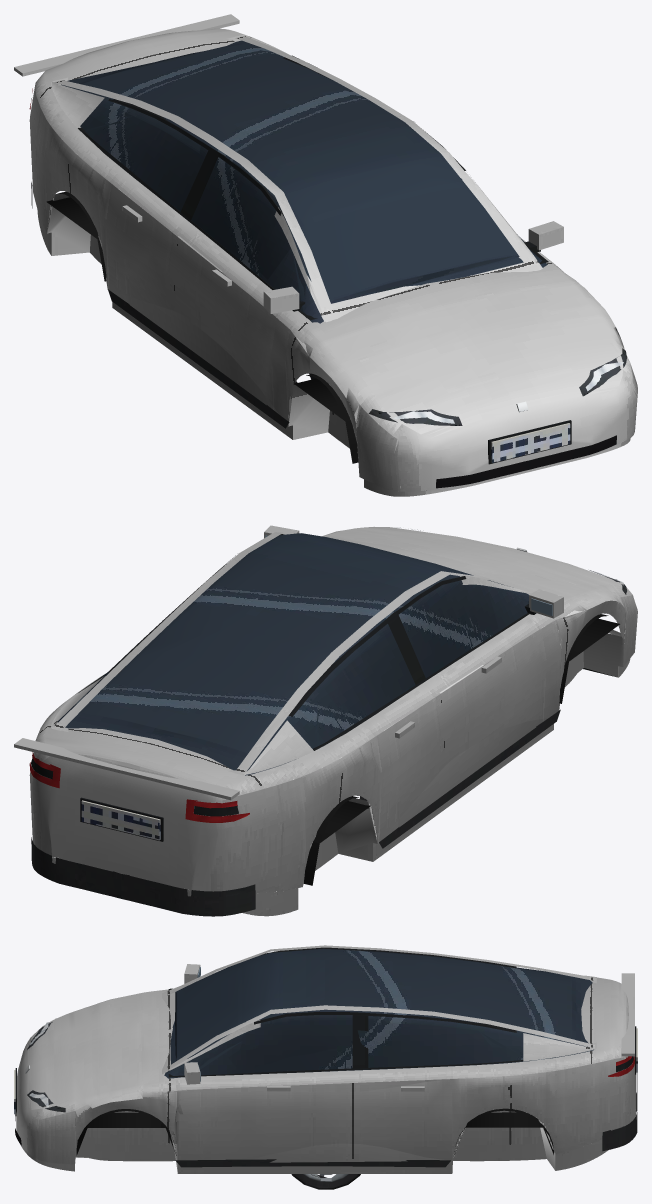
The model's file is modele24.glb.
3 renders of one model, top to bottom at view 1: azimuth 30°, elevation 25°; view 2: azimuth 150°, elevation 25°; view 3: azimuth 270°, elevation 25°, orthographic. The views are drawn at different scales.
Parts seen in each view (by area): view 1: Paint, Body, Paint_far, Body_far; view 2: Paint, Body, Paint_far, Body_far; view 3: Paint, Body, Body_far, Paint_far, Wheel, Wheel_far.
Part boxes in pixels (box(x1,y1,x2,y2)): Paint: box(14, 28, 637, 496); Body: box(29, 40, 626, 488); Paint_far: box(14, 14, 563, 496); Body_far: box(46, 42, 626, 463); Paint: box(29, 526, 637, 916); Body: box(29, 527, 626, 916); Paint_far: box(14, 525, 626, 894); Body_far: box(35, 547, 626, 884); Paint: box(16, 945, 636, 1171); Body: box(14, 947, 637, 1167); Body_far: box(14, 949, 637, 1155); Paint_far: box(75, 964, 636, 1173); Wheel: box(291, 1174, 360, 1189); Wheel_far: box(303, 1174, 357, 1187).
Bounding box in the file's own units: 1.96 × 1.76 × 4.75.
3 materials, 3 textured.
